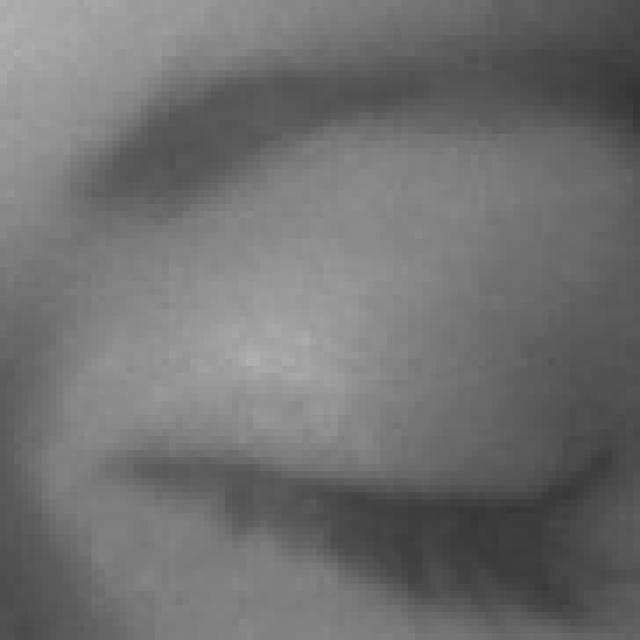Eyeclosed: (107, 242, 608, 640)
